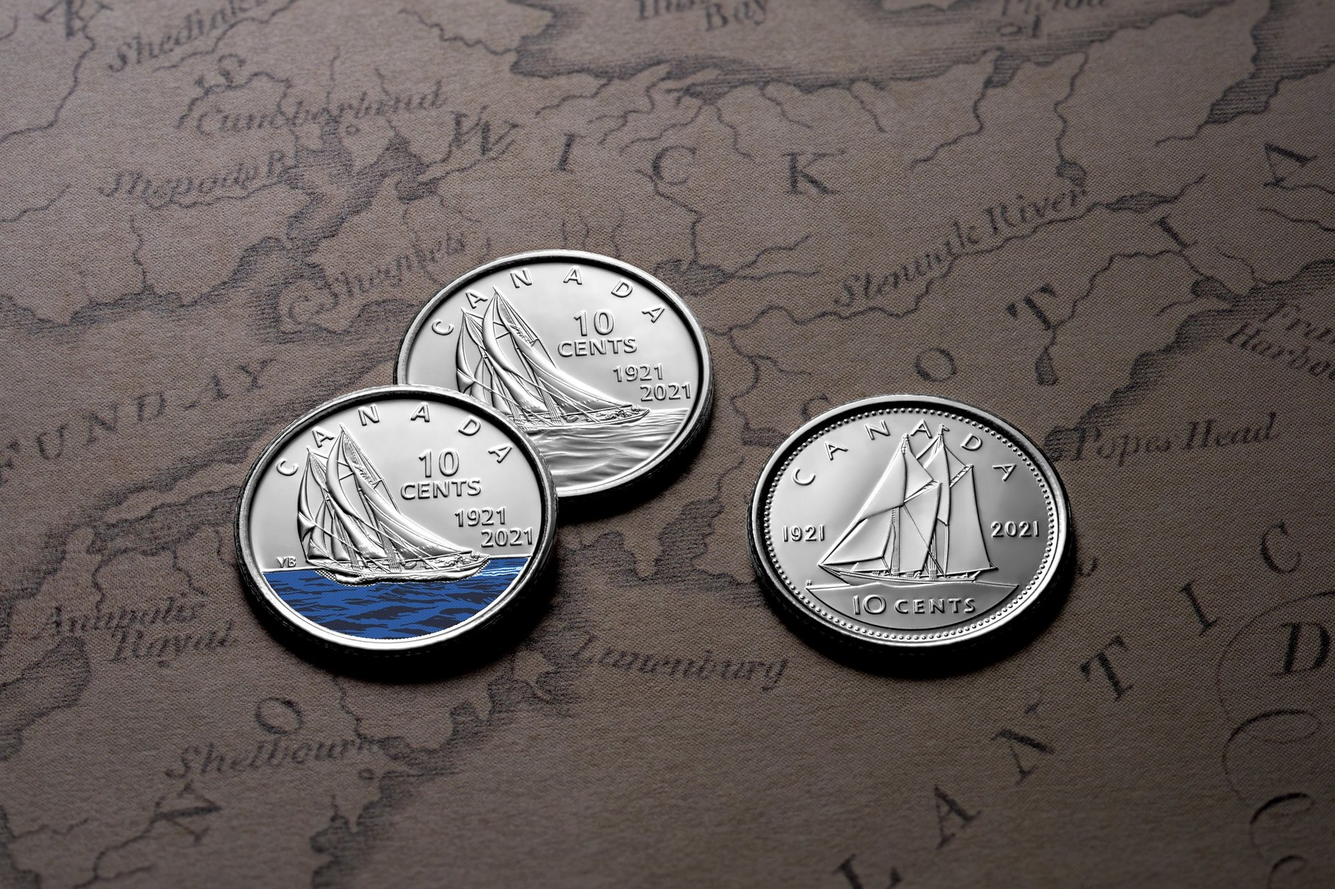coin: (236, 386, 556, 652), (749, 395, 1070, 651), (397, 250, 711, 498)
